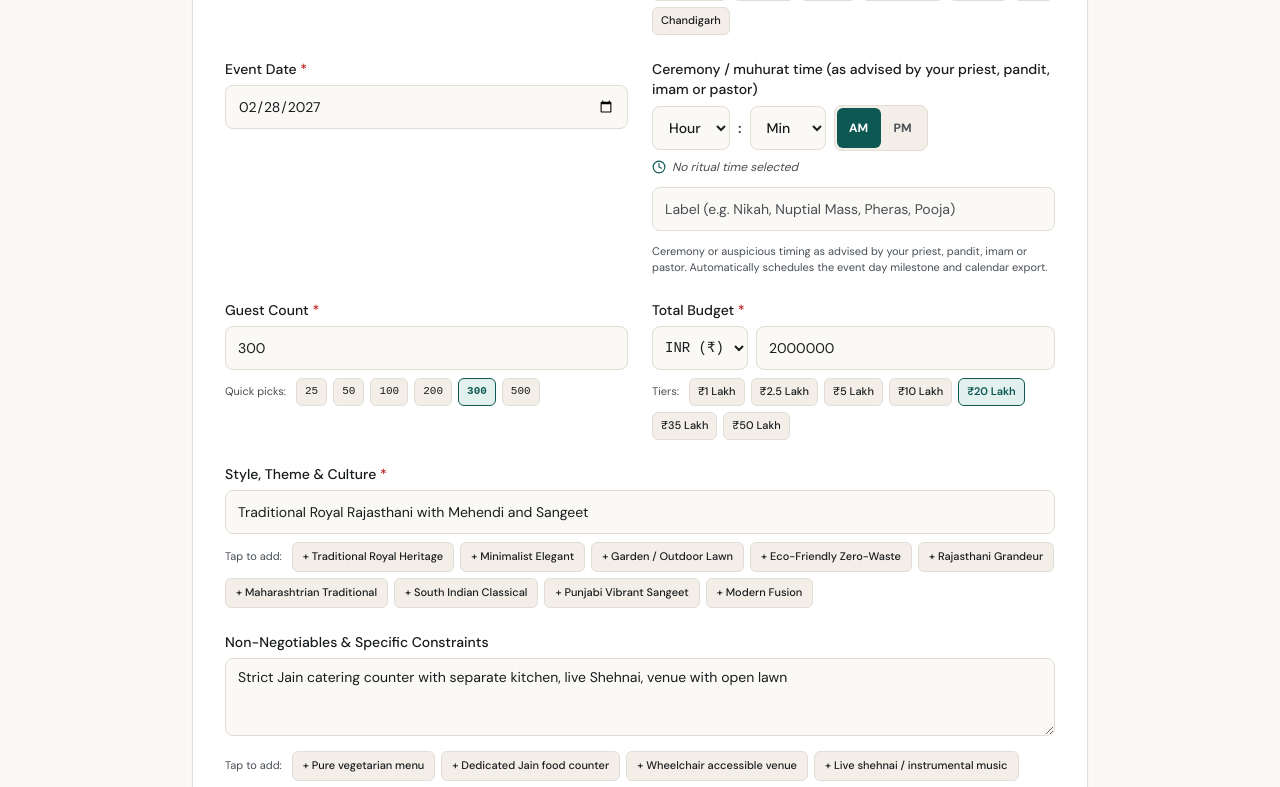
Test: IntakeForm Idea Chips & Muhurat Timing › replaces guest count when a quick pick chip is clicked
The image size is (1280, 787).
(page scrolled)
Click the button "500" at coordinates (521, 392), box [502,378,540,406]
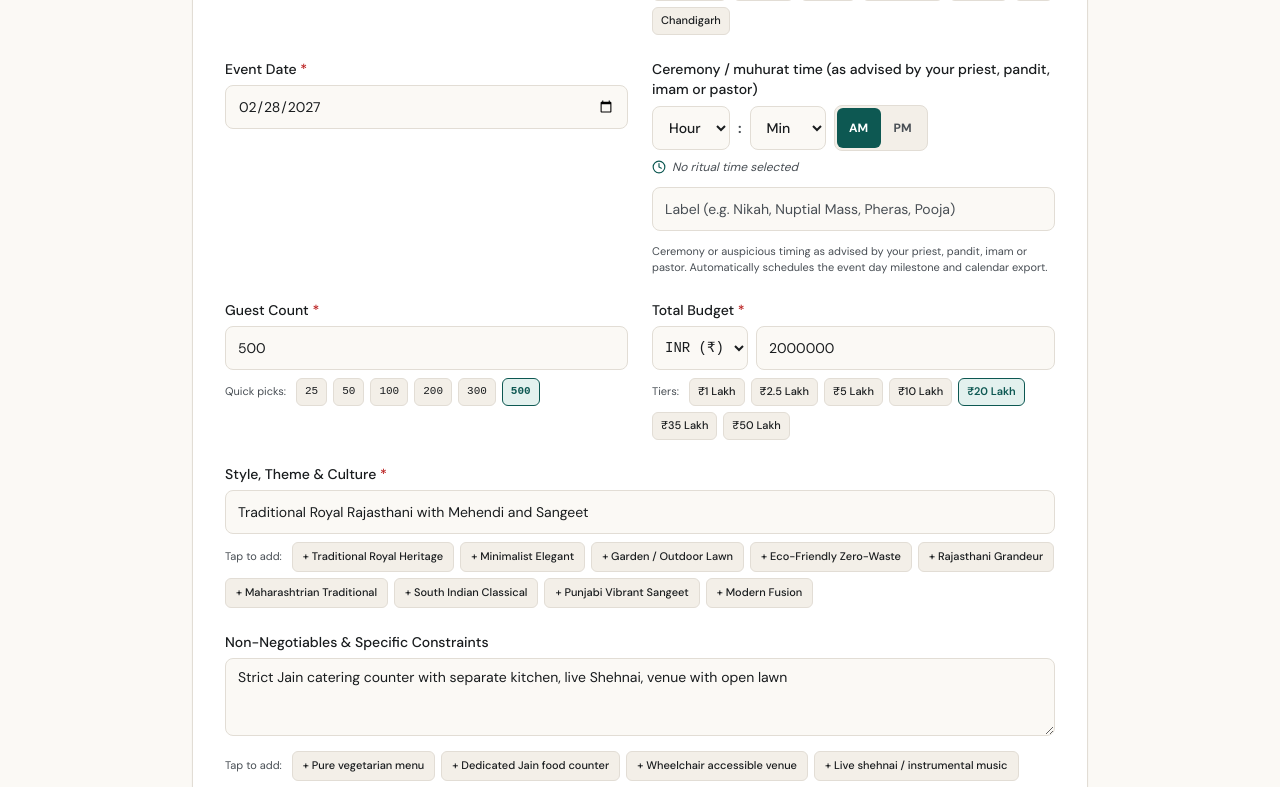
Now the number field labelled "Guest Count *" holds "500", box [225,326,628,370]
